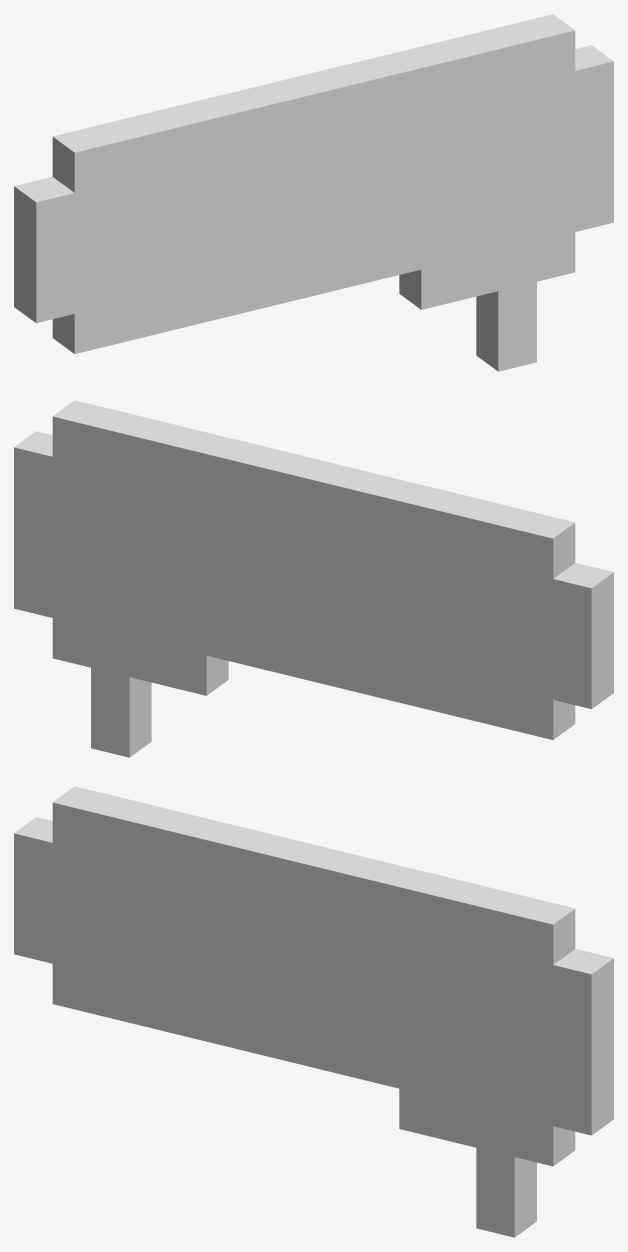
The model's file is bubble.obj.
3 views of the same model, one above another, from view 1: azimuth 30°, elevation 25°; view 2: azimuth 150°, elevation 25°; view 3: azimuth 330°, elevation 25° (orthographic).
Size of the model in its own units: 15 by 8 by 1.
Materials: 1 (1 with a texture image).
